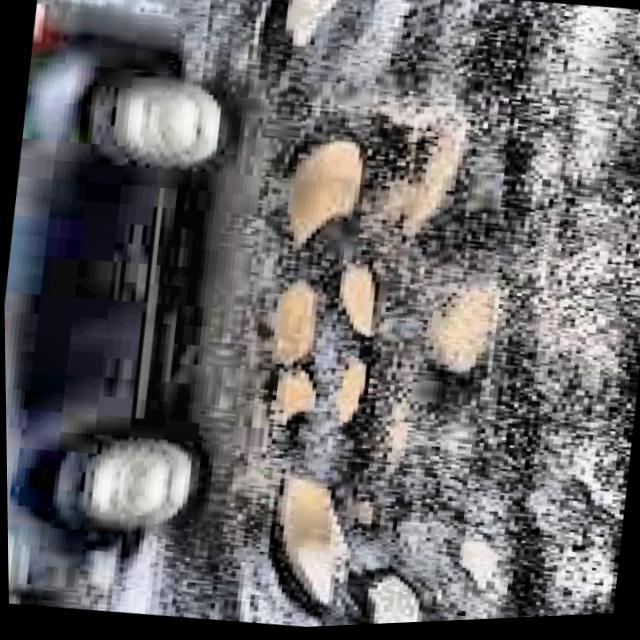pothole: (239, 478, 415, 627), (261, 268, 405, 419), (256, 135, 362, 241), (247, 0, 340, 65), (427, 287, 491, 369), (339, 360, 362, 418)
